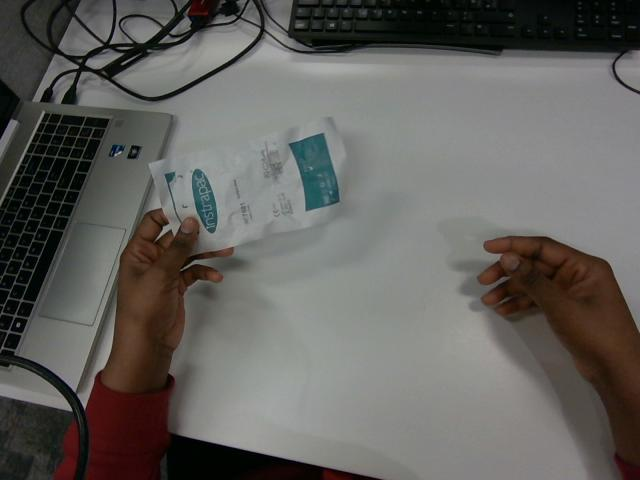gallipot: (150, 118, 345, 253)
